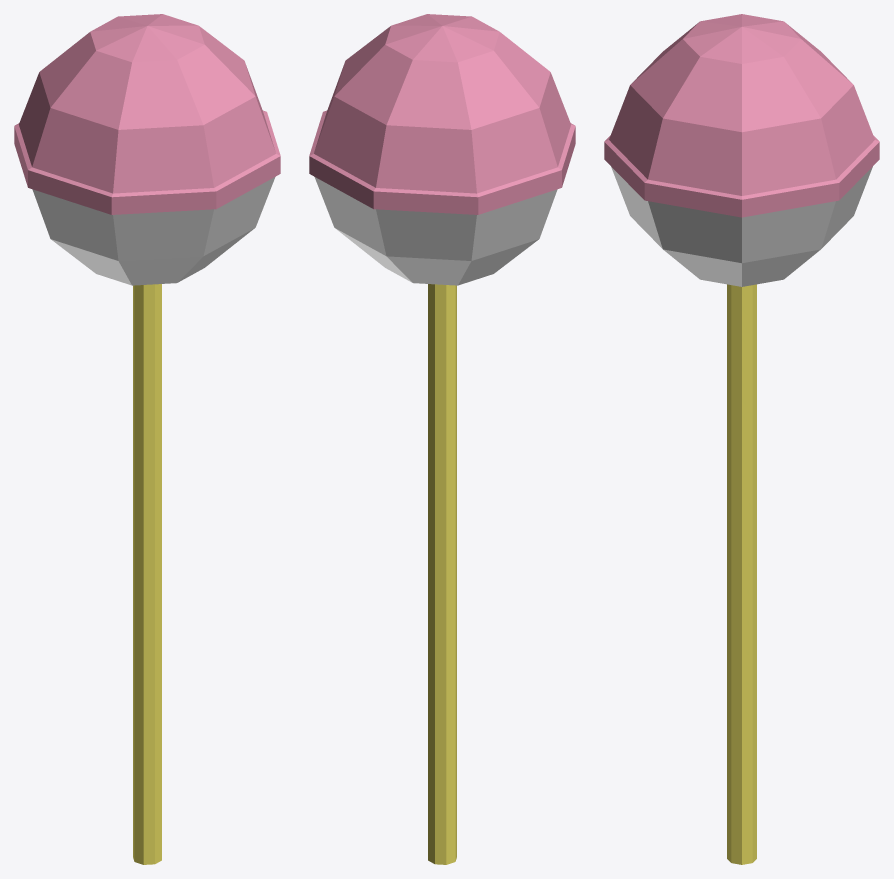
The model's file is Texturizado_Chupa_Chups_001.glb.
3 views of the same model, side by side, from view 1: azimuth 30°, elevation 25°; view 2: azimuth 150°, elevation 25°; view 3: azimuth 270°, elevation 25° (orthographic).
Visible parts, largest first — view 1: Mesh_Chupa_Chups_001; view 2: Mesh_Chupa_Chups_001; view 3: Mesh_Chupa_Chups_001.
Part boxes in pixels (x1,y1,x2,y2): Mesh_Chupa_Chups_001: (14,14,280,864); Mesh_Chupa_Chups_001: (309,14,575,864); Mesh_Chupa_Chups_001: (604,14,879,864).
Bounding box in the file's own units: 5.33 × 17.74 × 5.33.
